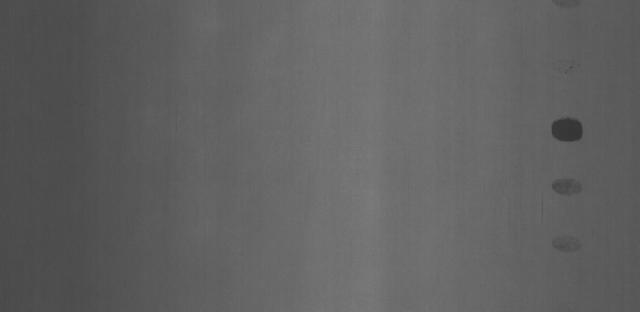oil_spot: (548, 112, 586, 144), (549, 174, 588, 201), (550, 235, 586, 255)
